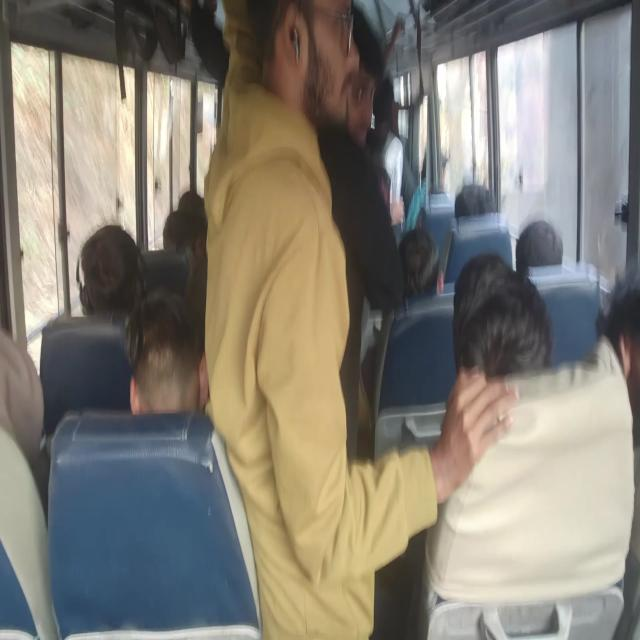person: (0, 331, 85, 540), (255, 12, 348, 167), (117, 296, 228, 396), (461, 268, 556, 381), (74, 227, 134, 311), (524, 213, 586, 288), (591, 297, 640, 374), (400, 242, 444, 315), (365, 45, 401, 128), (418, 146, 458, 208), (180, 183, 226, 236), (458, 178, 497, 236), (332, 33, 361, 106), (166, 214, 205, 258)
